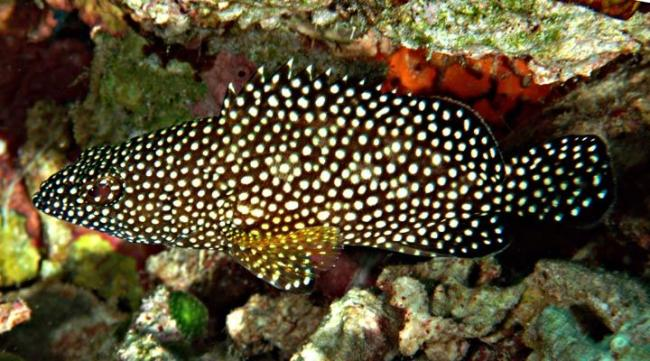fish: (32, 57, 610, 291)
